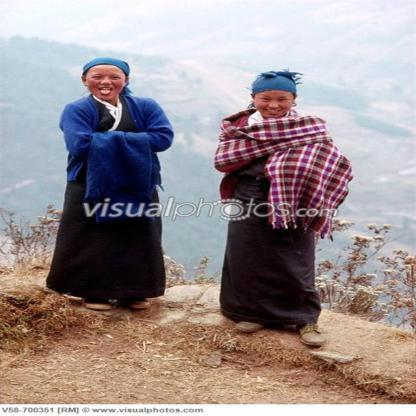face: (89, 65, 126, 103), (257, 87, 295, 121)
